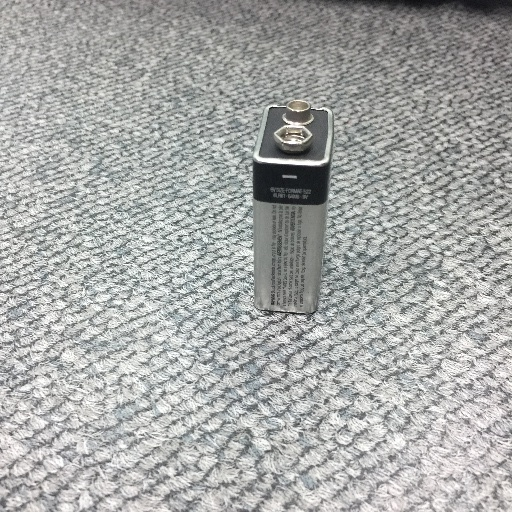Battery_3: (233, 83, 350, 336)
